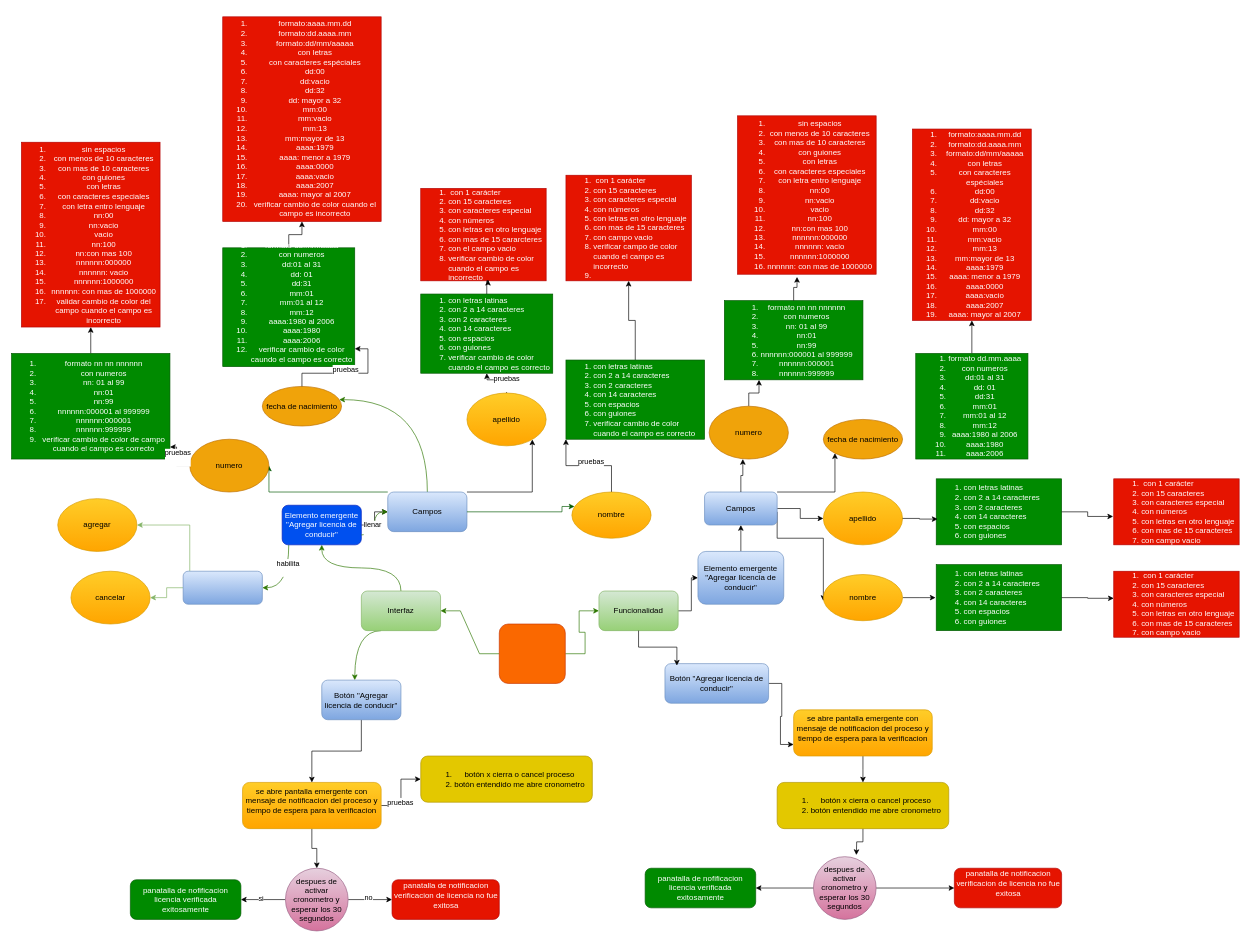
The diagram is 1251 pixels wide and 942 high, and some of its shapes have lost their labels. Each missing label, with the centre of its shape:
Botones: point (222, 587)
Compartir un automóvil de Urban Routes: Agregar licencia de conducir: point (532, 653)
